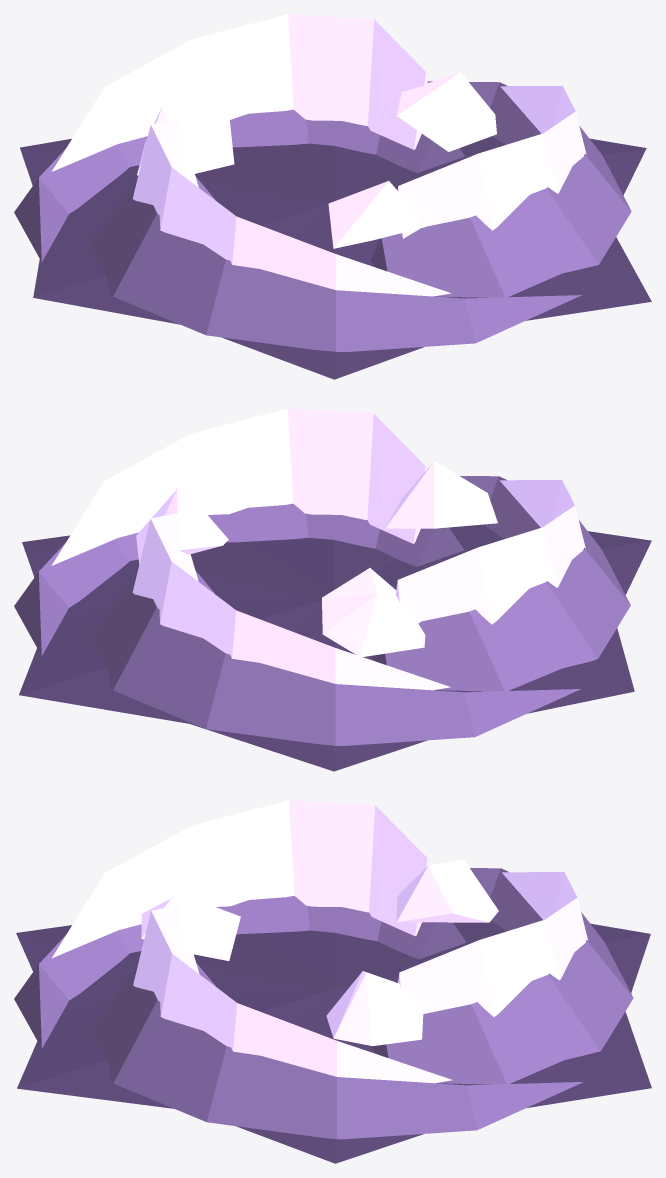
The model's file is prop_shazka_decoy_smoke.glb.
3 views of the same model, one above another, from view 1: azimuth 30°, elevation 25°; view 2: azimuth 150°, elevation 25°; view 3: azimuth 270°, elevation 25° (orthographic).
Visible parts, largest first — view 1: prop_shazka_decoy_smoke; view 2: prop_shazka_decoy_smoke; view 3: prop_shazka_decoy_smoke.
Boxes of the visible parts, box(x1,y1,x2,y2) form: prop_shazka_decoy_smoke: box(14, 14, 651, 379); prop_shazka_decoy_smoke: box(14, 408, 651, 771); prop_shazka_decoy_smoke: box(14, 800, 651, 1163).
Size of the model in its own units: 2.29 by 0.4473 by 2.06.
